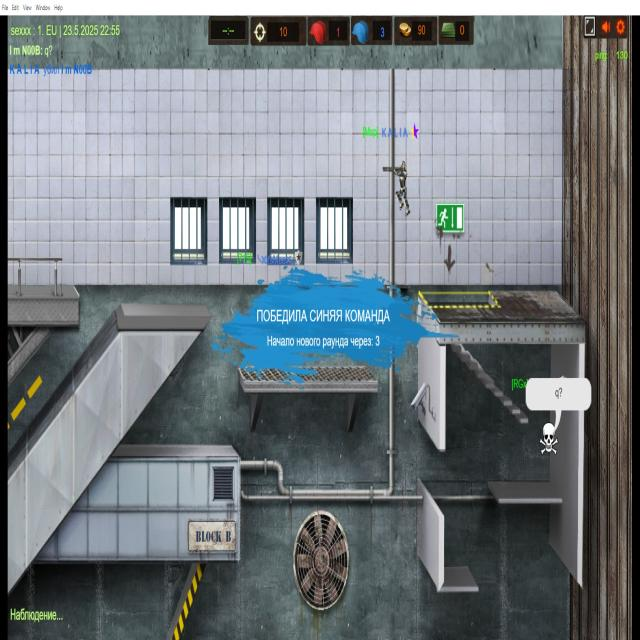enemy: (383, 155, 412, 219)
